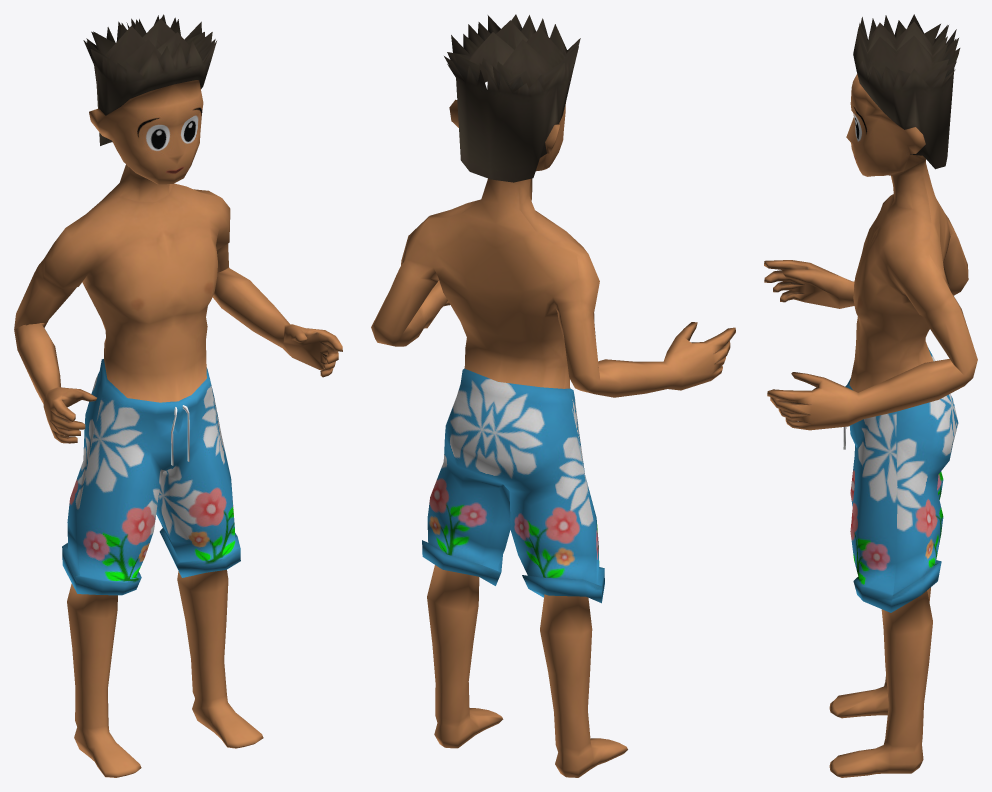
The model's file is stklib_beachGuy_a_main.glb.
3 renders of one model, left to right at view 1: azimuth 30°, elevation 25°; view 2: azimuth 150°, elevation 25°; view 3: azimuth 270°, elevation 25°, orthographic. The views are drawn at different scales.
Visible parts, largest first — view 1: stktex_beachGuySwimshort_a.jpg__; view 2: stktex_beachGuySwimshort_a.jpg__; view 3: stktex_beachGuySwimshort_a.jpg__.
Part boxes in pixels (x1,y1,x2,y2): stktex_beachGuySwimshort_a.jpg__: [14, 14, 342, 777]; stktex_beachGuySwimshort_a.jpg__: [371, 14, 735, 777]; stktex_beachGuySwimshort_a.jpg__: [764, 14, 977, 777].
Bounding box in the file's own units: 0.7375 × 1.77 × 0.4815.
Materials: 1 (1 with a texture image).
